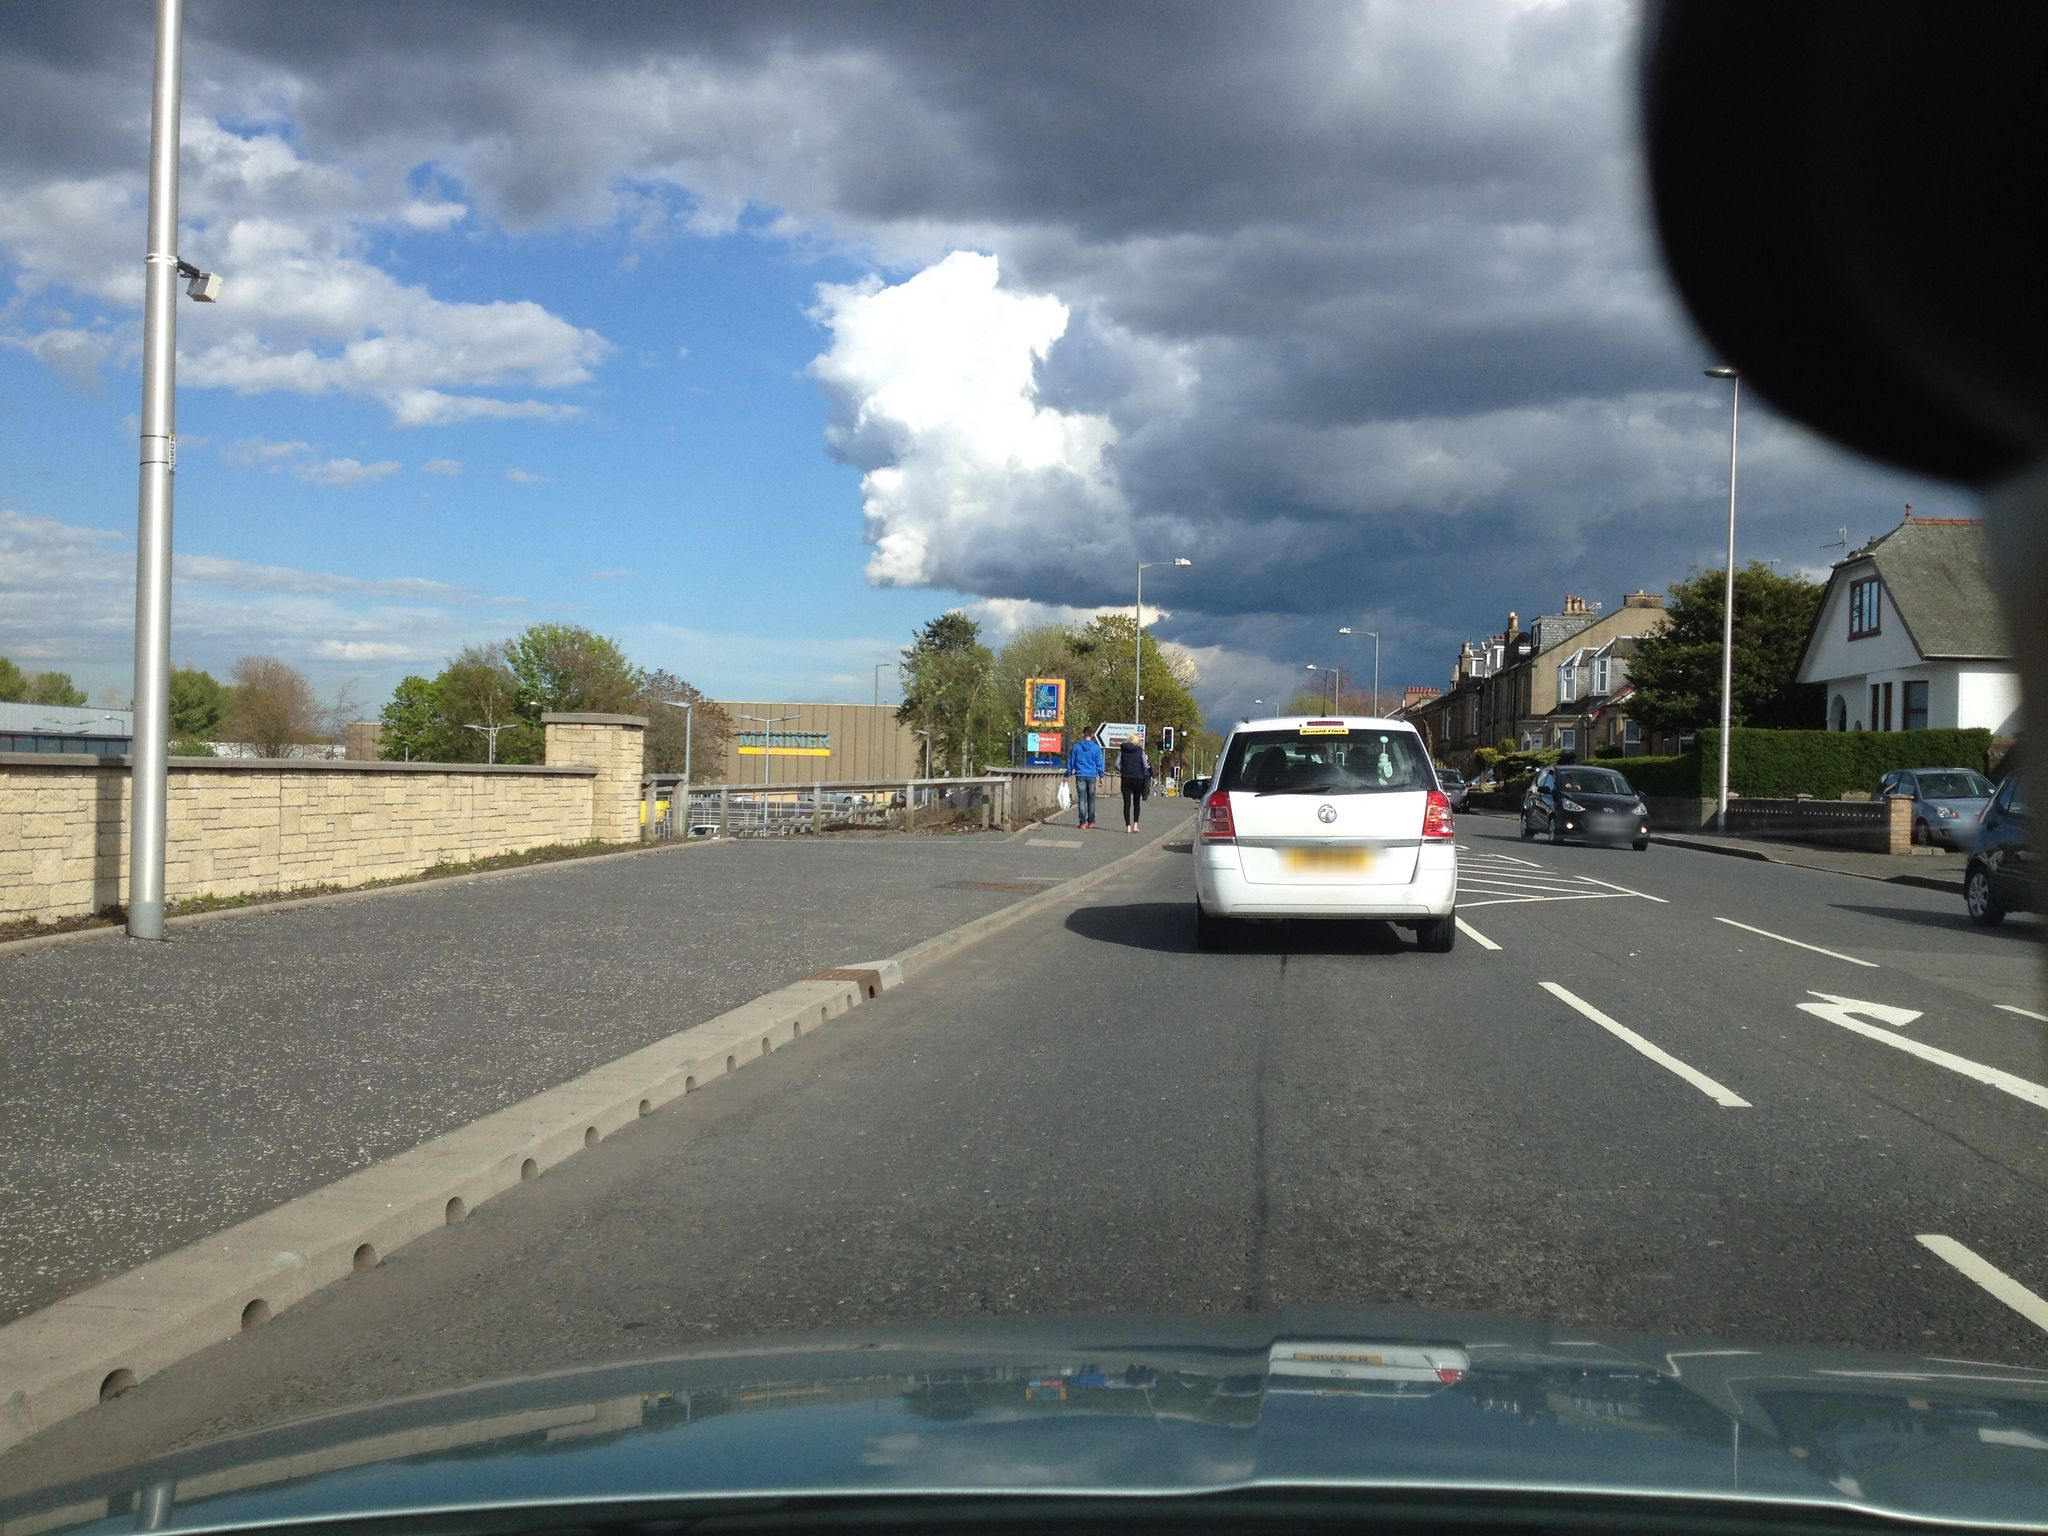car: (1192, 707, 1476, 958), (1964, 766, 2048, 929), (1521, 765, 1650, 845), (1871, 766, 1996, 849)
